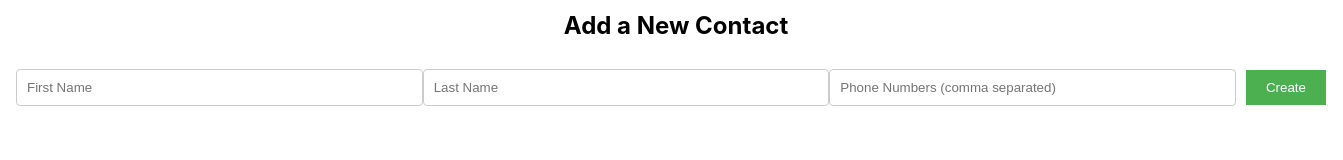
Scenario: displays validation error when first name is missing
Type "Laura" into the field with placeholder "Last Name".
click(626, 88); type("Laura")  # box [423, 69, 829, 106]
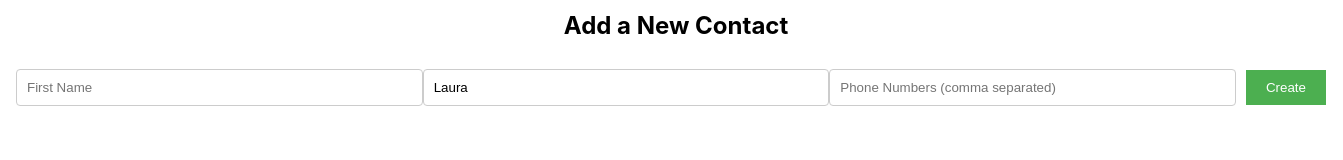
Type "08889827187" into the field with placeholder "Phone Numbers (comma separated)".
click(1033, 88); type("08889827187")  # box [829, 69, 1236, 106]
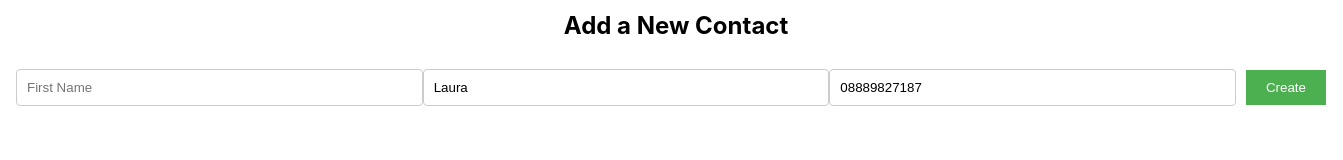
Click the button "Create".
click(1286, 88)  # box [1246, 70, 1326, 105]
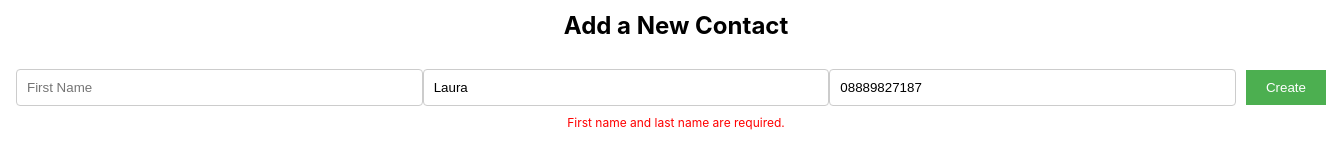
Expected: the text "First name and last name are required." is shown, [567, 115, 785, 130]
